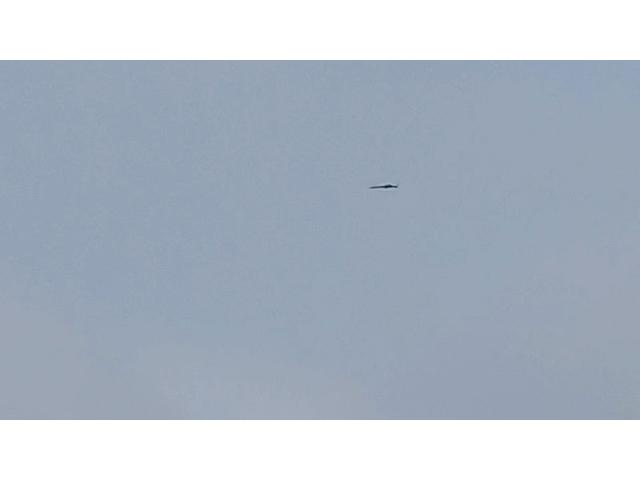Anti-Drone: (368, 182, 402, 193)
